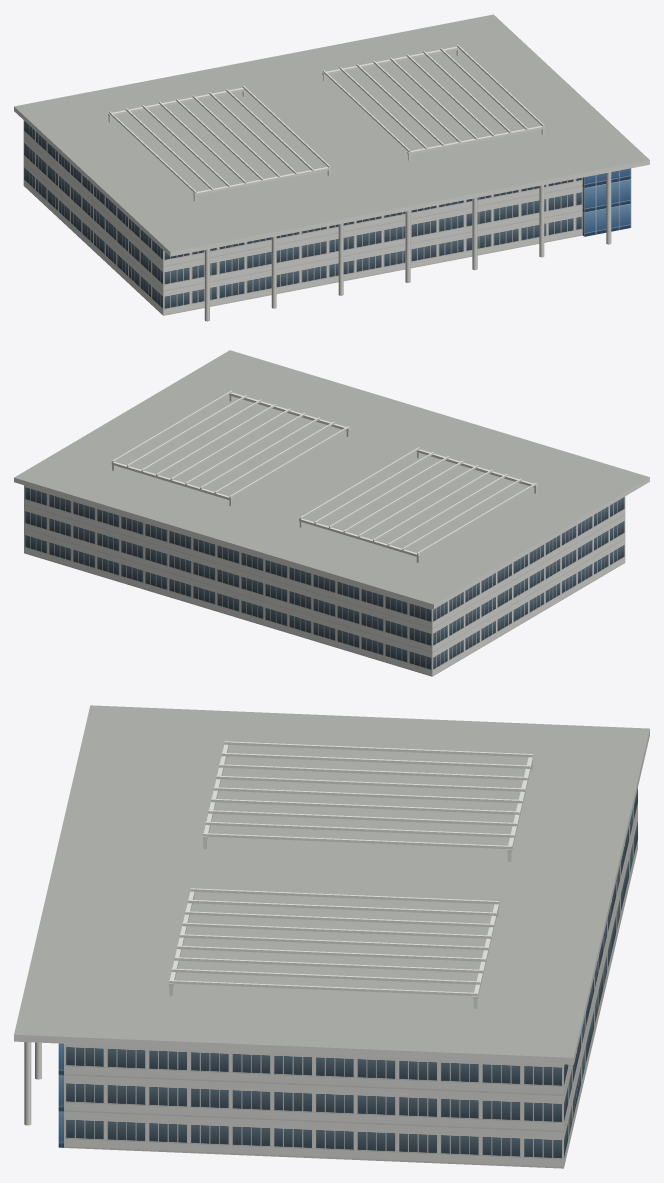
The model's file is xiyuan_xinshitang.glb.
3 views of the same model, one above another, from view 1: azimuth 30°, elevation 25°; view 2: azimuth 150°, elevation 25°; view 3: azimuth 270°, elevation 25° (orthographic). The views are drawn at different scales.
Visible parts, largest first — view 1: 西苑新食堂; view 2: 西苑新食堂; view 3: 西苑新食堂.
Boxes of the visible parts, x1,y1,x2,y2 form: 西苑新食堂: [14, 14, 649, 321]; 西苑新食堂: [14, 350, 649, 676]; 西苑新食堂: [14, 705, 649, 1168].
Bounding box in the file's own units: 76.38 × 13.2 × 58.24.
Materials: 4 (2 with a texture image).
